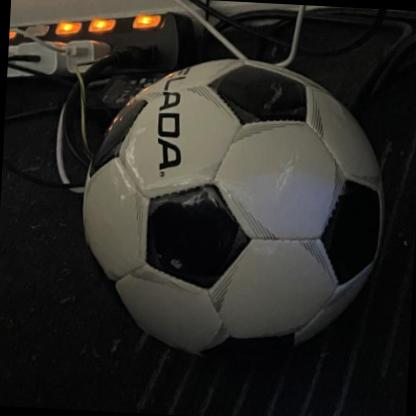ball: (74, 53, 392, 370)
